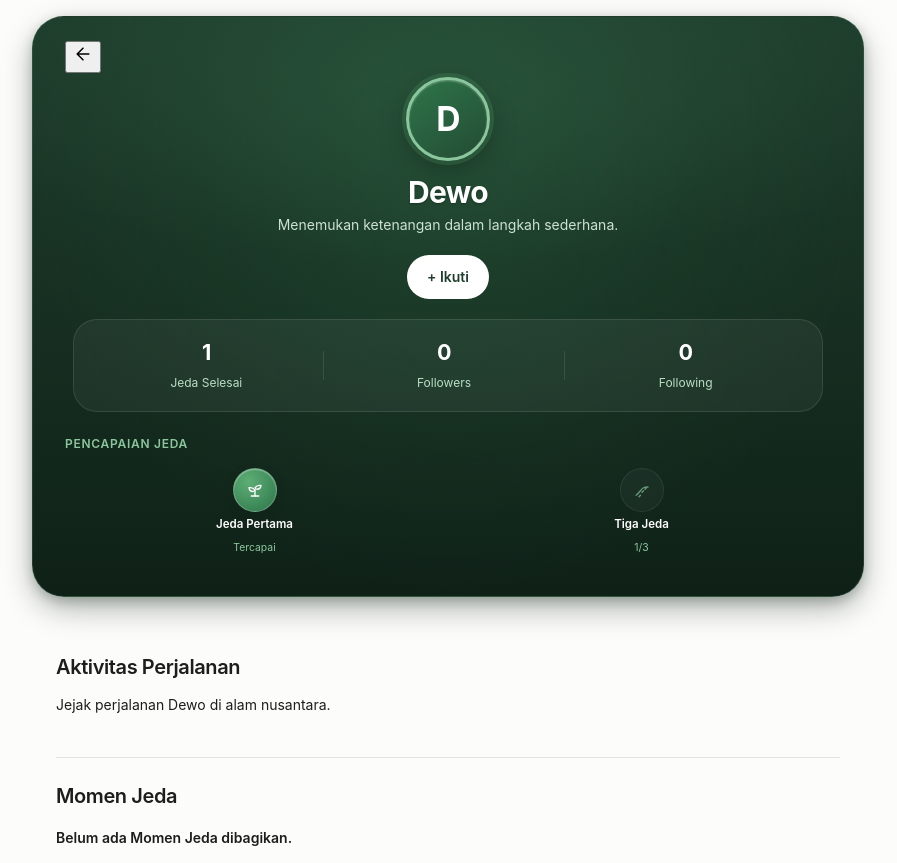
Scenario: Traveler Profile Screen (T21) - Rebuilt V2 Identity & Journal › O. Public Profile: displays safe public information and functional follow/unfollow without self-follow
The image size is (897, 863).
Toggle follow state
Click the button "+ Ikuti": (448, 277) [407,255,489,299]
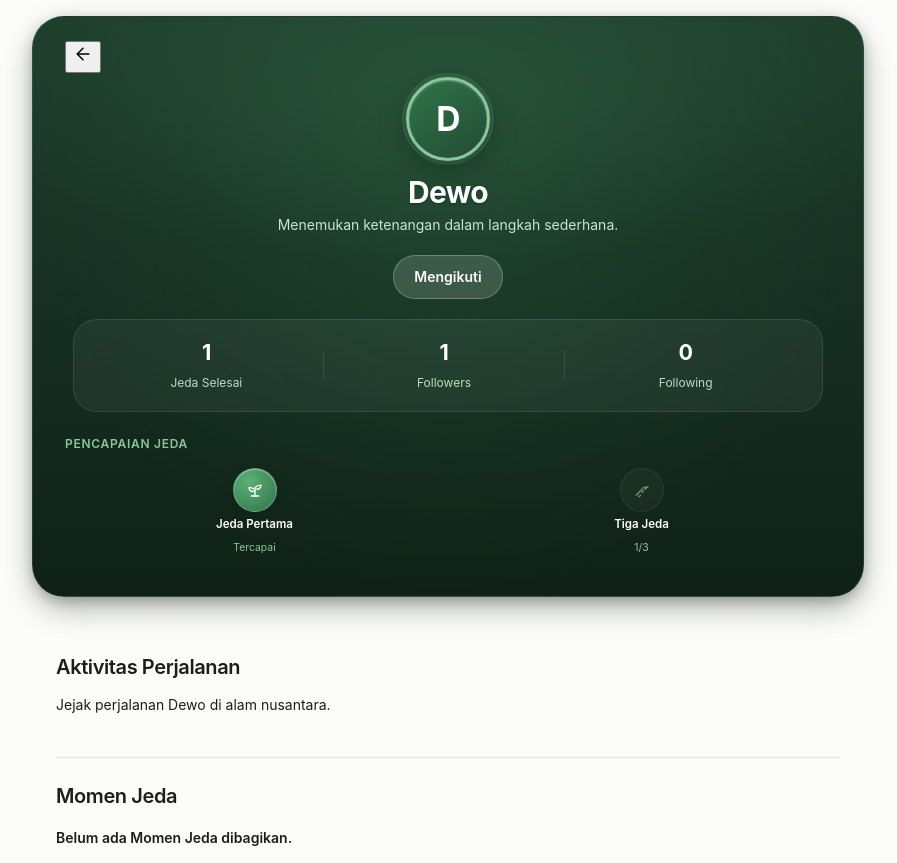
Now the button "Mengikuti" is shown
Click again to unfollow
Click the button "Mengikuti": (448, 277) [393,255,503,299]
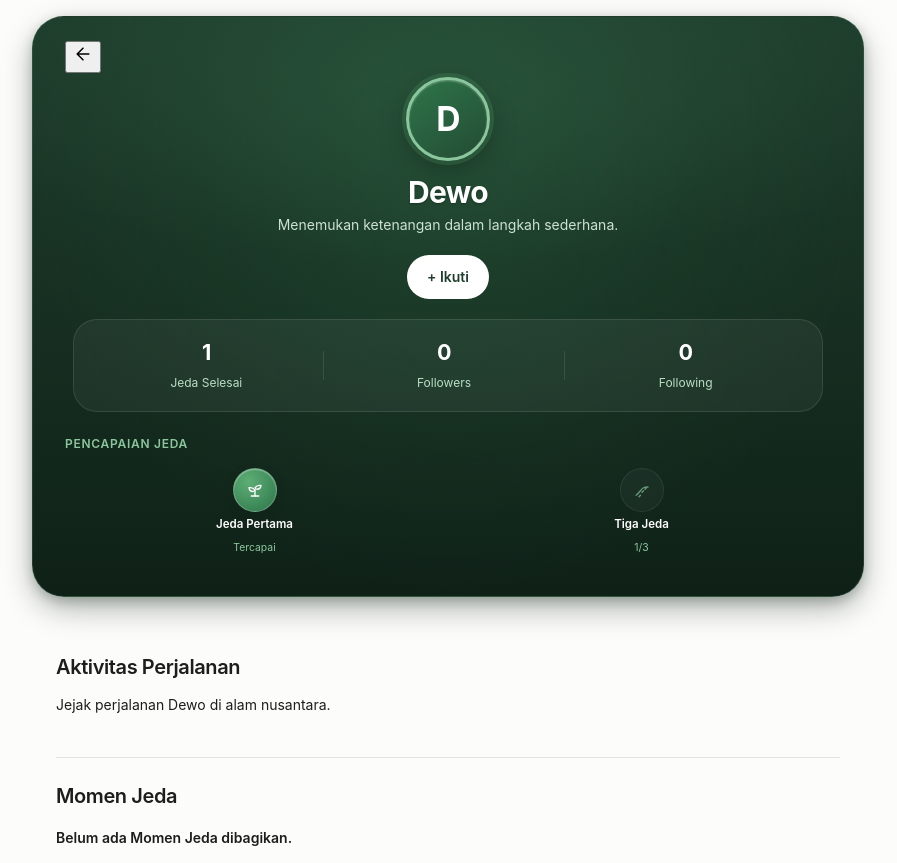
Now the button "+ Ikuti" is shown, box [407,255,489,299]
